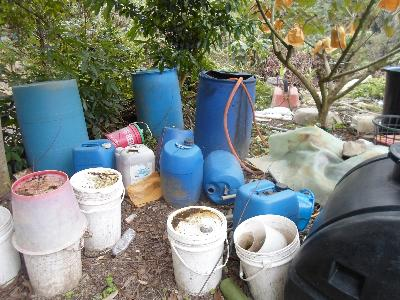bottle: (111, 228, 137, 259)
bowl: (291, 106, 332, 127)
bucket: (10, 77, 92, 180), (10, 169, 93, 255), (196, 70, 257, 170), (233, 214, 303, 300), (164, 204, 228, 296), (70, 166, 127, 256), (131, 66, 186, 145), (203, 149, 246, 205), (115, 145, 157, 197), (104, 122, 145, 147)
plastic_bag: (249, 122, 389, 203)
